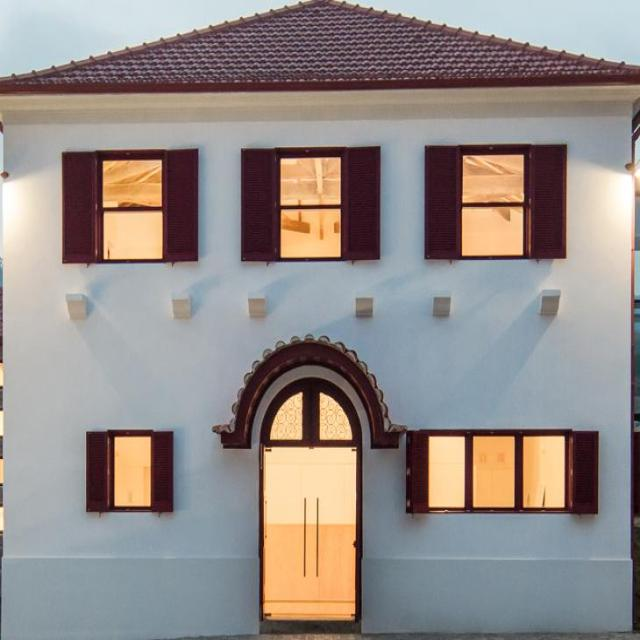door: (264, 387, 360, 630)
windows: (426, 435, 566, 512), (276, 154, 342, 258), (461, 151, 526, 256), (101, 156, 164, 259), (111, 433, 151, 508)
